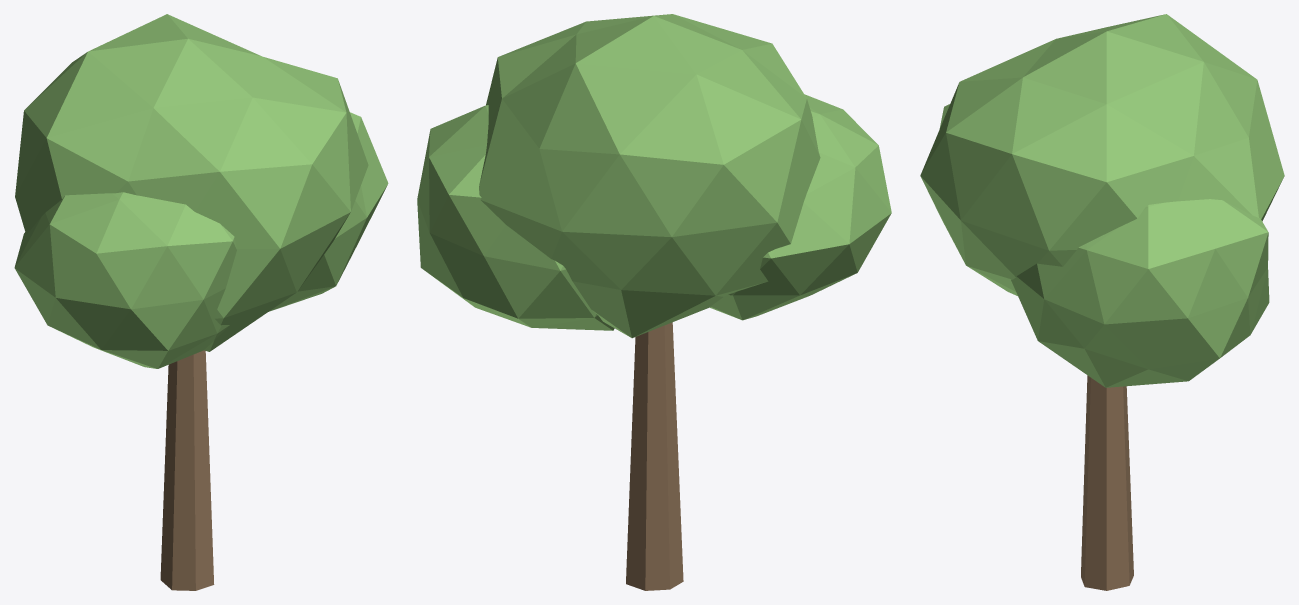
The model's file is Tree_Leaf_A.fbx.
The picture shows the model from 3 angles, left to right: view 1: azimuth 30°, elevation 25°; view 2: azimuth 150°, elevation 25°; view 3: azimuth 270°, elevation 25°; orthographic projection. The views are drawn at different scales.
Parts seen in each view (by area): view 1: Tree_Leaf_A; view 2: Tree_Leaf_A; view 3: Tree_Leaf_A.
Part boxes in pixels (box(x1,y1,x2,y2)): Tree_Leaf_A: box(14, 14, 388, 590); Tree_Leaf_A: box(417, 14, 891, 590); Tree_Leaf_A: box(920, 14, 1284, 590).
Size of the model in its own units: 6.39 by 8.71 by 5.25.
